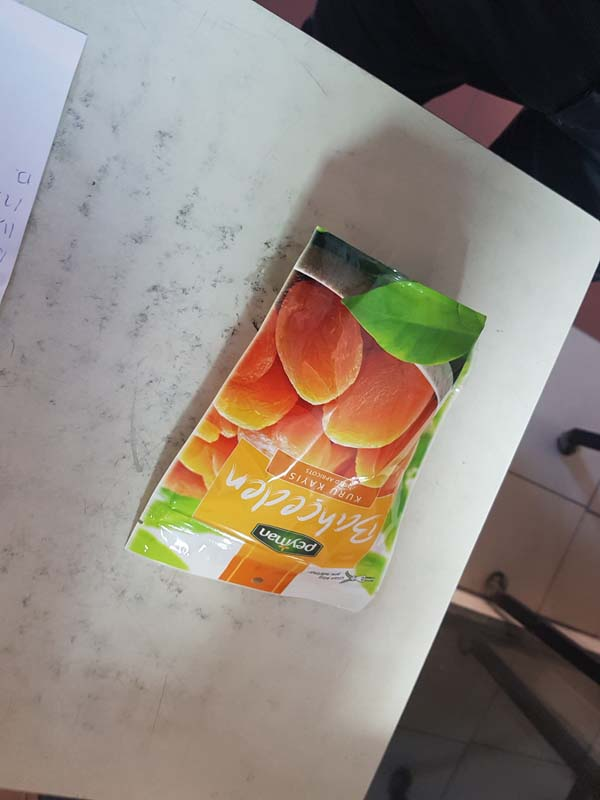bahcedenkurukayisi: (118, 222, 487, 614)
